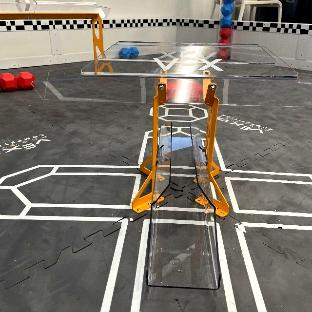V5_BLUE: (220, 0, 233, 26), (119, 47, 138, 57)
V5_RED: (0, 72, 34, 91), (220, 27, 230, 40), (218, 48, 228, 58)
